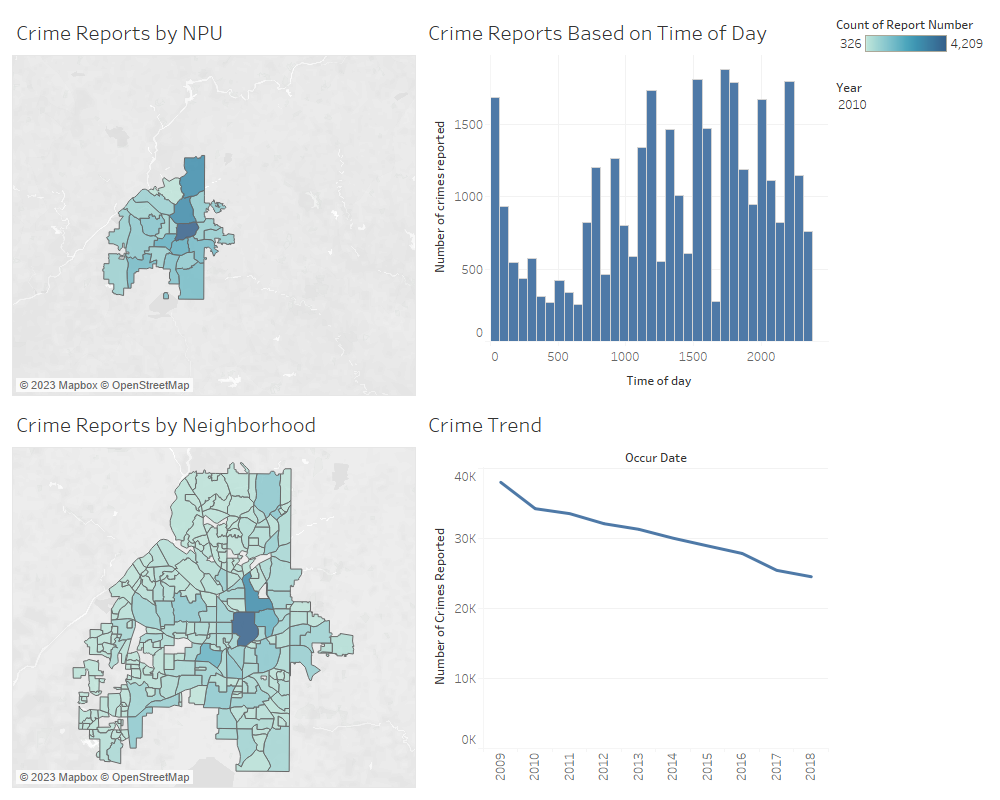

The dashboard page shown, as its layout file describes it:
{"tool":"tableau","page":{"name":"Dashboard 1","canvas":[1000,800],"ordinal":0},"visuals":[{"type":"worksheet","title":"Crime Reports by NPU","mark":"Automatic","box":[8,8,412,392]},{"type":"worksheet","title":"Crime Reports Based on Time of Day","mark":"Automatic","rows":["Occur Time"],"cols":["Occur Time (bin)"],"box":[420,8,412,392]},{"type":"legend","title":"Crime Reports by NPU","param":"[federated.0hp6jeo1658rzw118nyuk0pgq6uf].[cnt:Report Number:qk]","box":[832,8,160,65]},{"type":"filter","title":"Crime Reports by NPU","param":"[federated.0hp6jeo1658rzw118nyuk0pgq6uf].[yr:Occur Date:ok]","box":[832,73,160,75]},{"type":"worksheet","title":"Crime Reports by Neighborhood","mark":"Automatic","box":[8,400,412,392]},{"type":"worksheet","title":"Crime Trend","mark":"Automatic","rows":["Report Number"],"cols":["Occur Date"],"box":[420,400,412,392]}]}

Visuals, with their boxes in screenshot pixels (x1, y1, x2, y2), scaled from the page's 1000x800 canvas onto the 1000x800 screenshot:
"Crime Reports by NPU" worksheet: crop(8, 8, 420, 400)
"Crime Reports Based on Time of Day" worksheet: crop(420, 8, 832, 400)
"Crime Reports by NPU" legend: crop(832, 8, 992, 73)
"Crime Reports by NPU" filter: crop(832, 73, 992, 148)
"Crime Reports by Neighborhood" worksheet: crop(8, 400, 420, 792)
"Crime Trend" worksheet: crop(420, 400, 832, 792)
